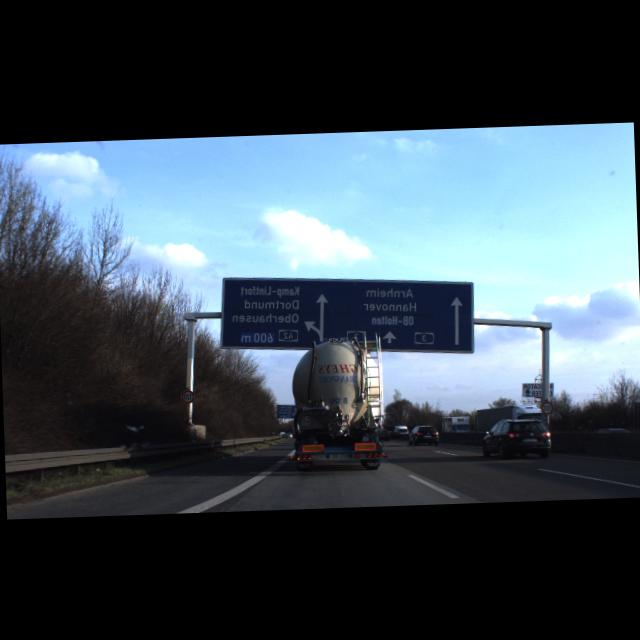prohibitory: (180, 388, 194, 402), (540, 401, 554, 414)
